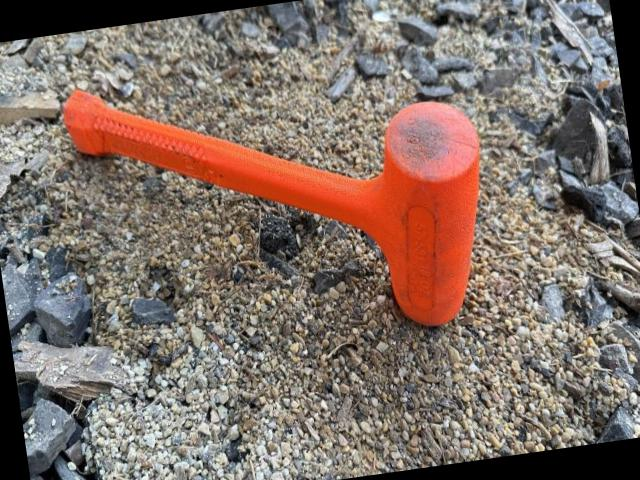hammer: (58, 37, 504, 371)
